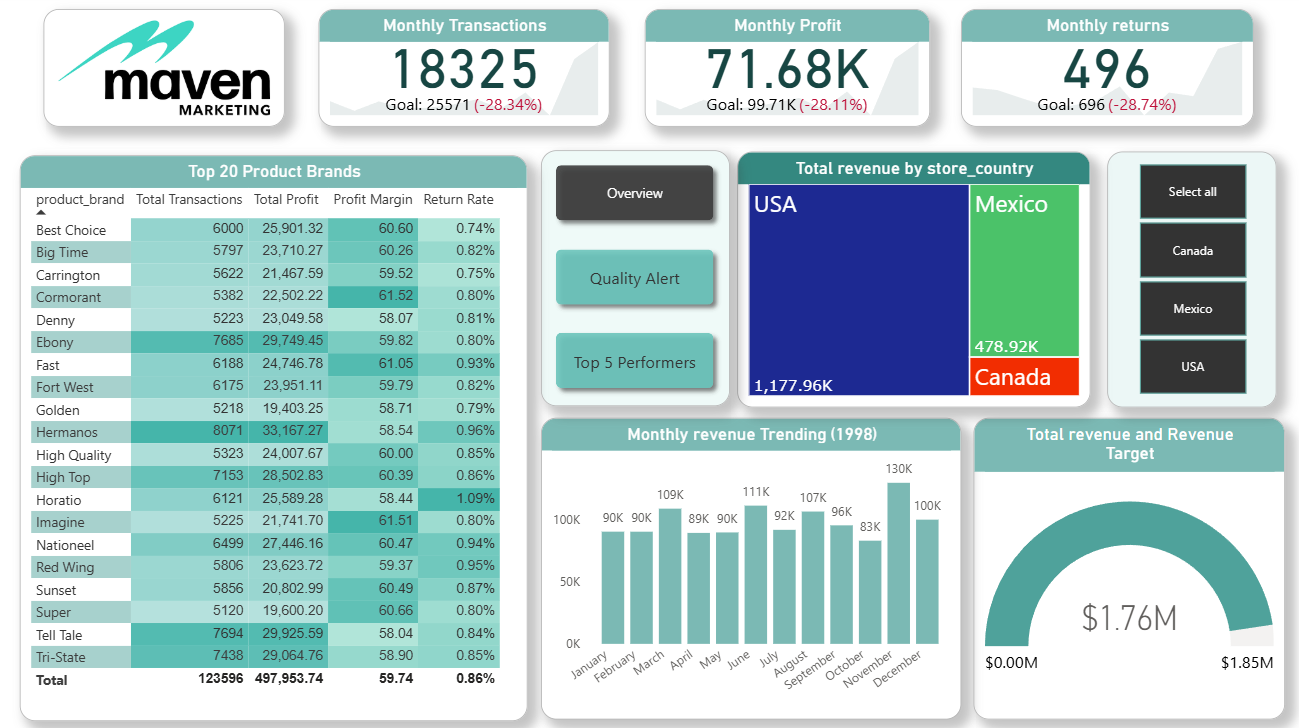

The page's visual inventory and layout, read from the dashboard file:
{"tool":"powerbi","page":{"name":"Main dashboard","canvas":[1280,720],"ordinal":0},"visuals":[{"type":"pivotTable","title":"Top 20 Product Brands","fields":{"Rows":["Products.product_brand"],"Values":["Measure table.Total Transactions","Measure table.Total profit","Measure table.Profit Margin","Measure table.Return Rate"]},"box":[28.2,157.2,497.1,553.5],"z":0},{"type":"kpi","title":"Monthly Transactions ","fields":{"TrendLine":["Calendar.date.Variation.Date Hierarchy.Month"],"Goal":["Measure table.Last Month Transactions"],"Indicator":["Measure table.Current Month Transactions"]},"box":[320.4,14.7,284.9,114.9],"z":1000},{"type":"kpi","title":"Monthly returns","fields":{"TrendLine":["Calendar.date.Variation.Date Hierarchy.Month"],"Goal":["Measure table.Last Month Returns"],"Indicator":["Measure table.Current Month Returns"]},"box":[948.9,14.7,286.1,114.9],"z":2000},{"type":"clusteredColumnChart","title":"Monthly revenue Trending (1998)","fields":{"Category":["Calendar.WeekStart.Variation.Date Hierarchy.Year","Calendar.WeekStart.Variation.Date Hierarchy.Quarter","Calendar.WeekStart.Variation.Date Hierarchy.Month","Calendar.WeekStart.Variation.Date Hierarchy.Day"],"Y":["Measure table.Total revenue"]},"box":[537.5,415,411.2,295],"z":3000},{"type":"gauge","fields":{"Y":["Measure table.Total revenue"],"MaxValue":["Measure table.Revenue Target"]},"box":[961.2,415,305,295],"z":4000},{"type":"image","box":[51.4,14.7,236,114.9],"z":5000},{"type":"treemap","fields":{"Group":["Stores.store_country","Stores.store_state","Stores.store_city"],"Values":["Measure table.Total revenue"]},"box":[730,154.3,345.7,250],"z":6000},{"type":"slicer","fields":{"Values":["Stores.store_country"]},"box":[1091.4,154.3,165.7,250],"z":7000},{"type":"kpi","title":"Monthly Profit","fields":{"TrendLine":["Calendar.date.Variation.Date Hierarchy.Month"],"Indicator":["Measure table.Current Month Profit"],"Goal":["Measure table.Last Month Profit"]},"box":[639.5,14.7,278.8,114.9],"z":8000},{"type":"bookmarkNavigator","box":[538,152.9,184.6,250.7],"z":11001}]}

Visuals, with their boxes in screenshot pixels (x1, y1, x2, y2), scaled from the page's 1280x720 canvas onto the 1299x728 screenshot:
"Top 20 Product Brands" pivotTable: locate(29, 159, 533, 719)
"Monthly Transactions " kpi: locate(325, 15, 614, 131)
"Monthly returns" kpi: locate(963, 15, 1253, 131)
"Monthly revenue Trending (1998)" clusteredColumnChart: locate(545, 420, 963, 718)
gauge - Measure table.Total revenue x Measure table.Revenue Target: locate(975, 420, 1285, 718)
image: locate(52, 15, 292, 131)
treemap - Stores.store_country x Stores.store_state: locate(741, 156, 1092, 409)
slicer - Stores.store_country: locate(1108, 156, 1276, 409)
"Monthly Profit" kpi: locate(649, 15, 932, 131)
bookmarkNavigator: locate(546, 155, 733, 408)
